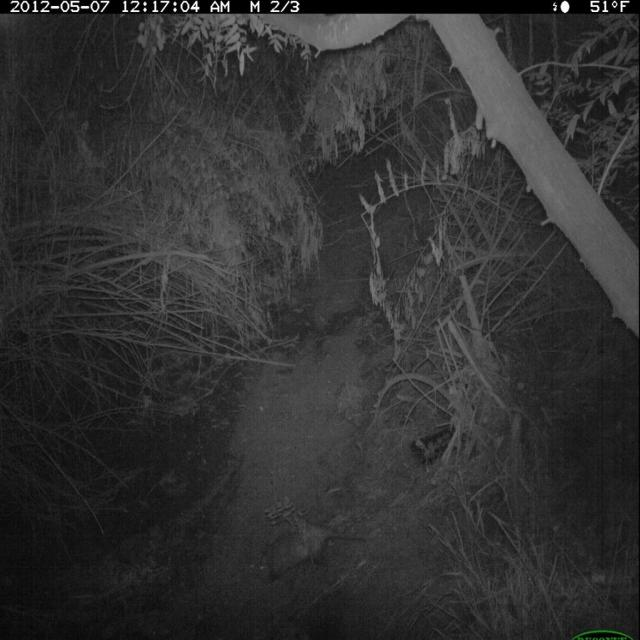opossum: (244, 516, 386, 597)
